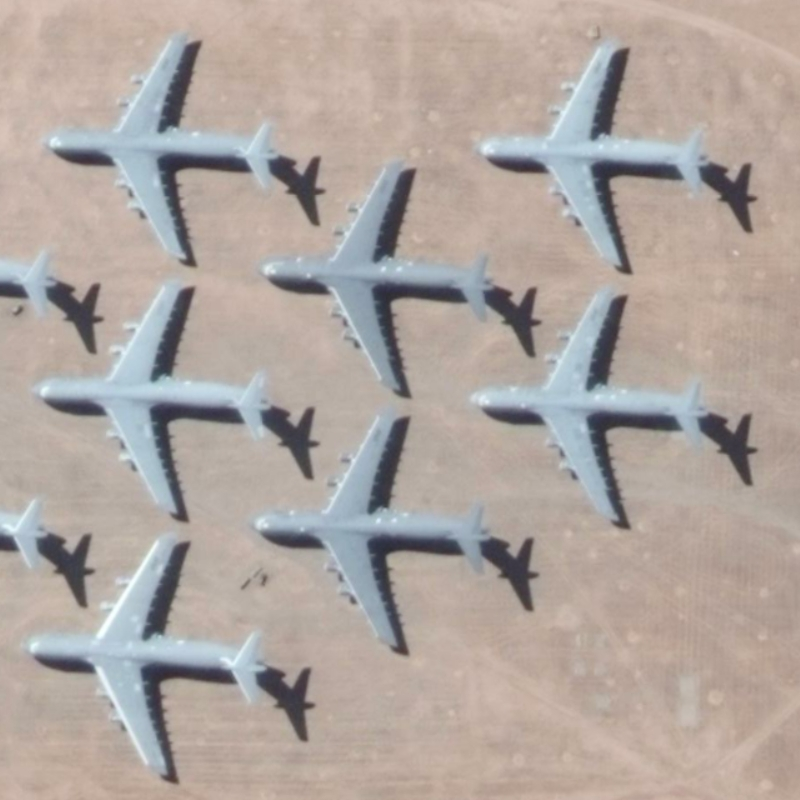A4: (232, 406, 514, 657), (29, 276, 304, 522), (465, 287, 739, 533), (26, 523, 282, 786), (464, 33, 735, 273), (40, 23, 299, 272), (251, 158, 524, 394)
